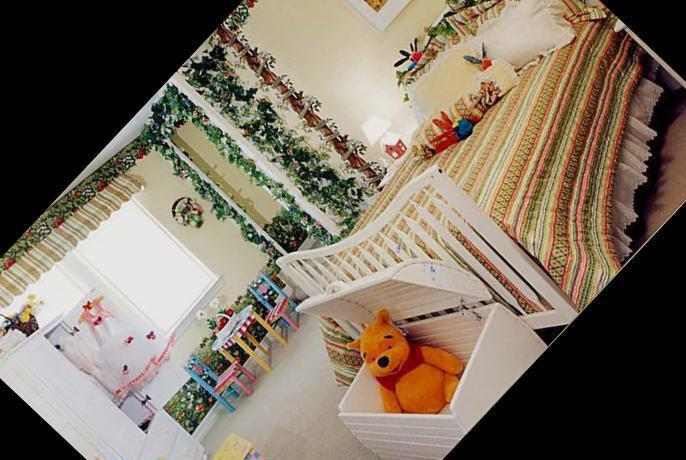Armario: (0, 303, 216, 460)
Otro Obstaculo: (255, 191, 551, 460)
